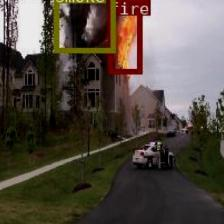fire: (107, 0, 141, 73)
smoke: (54, 0, 114, 52)
